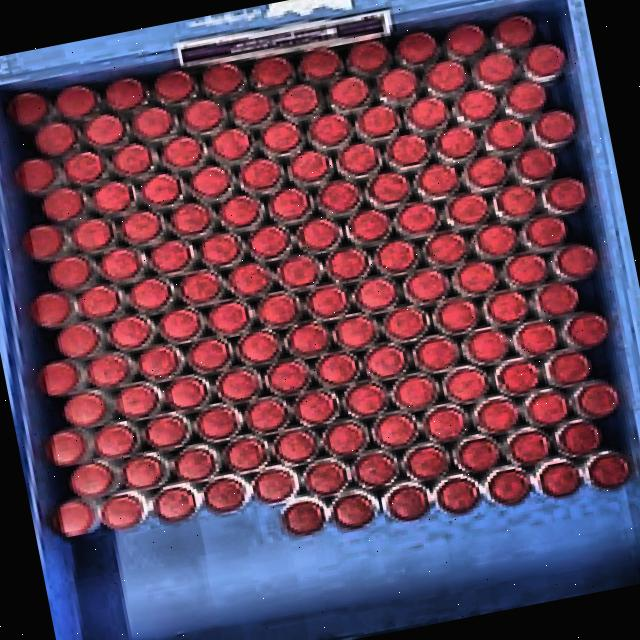vial: (541, 349, 592, 388), (169, 202, 218, 242), (52, 498, 101, 538), (503, 427, 552, 467), (553, 418, 602, 458), (57, 321, 108, 359), (522, 388, 570, 428), (303, 457, 351, 497), (453, 434, 501, 474), (559, 311, 609, 349), (442, 365, 489, 405), (472, 395, 519, 435), (352, 449, 399, 489), (244, 396, 292, 435), (530, 281, 579, 319), (195, 404, 242, 443), (550, 243, 598, 281), (571, 381, 619, 419), (108, 314, 157, 351), (413, 335, 460, 373), (292, 389, 339, 427), (371, 411, 418, 449), (423, 230, 469, 268), (512, 320, 558, 358), (343, 381, 389, 419), (224, 435, 270, 473), (273, 427, 319, 465), (383, 306, 430, 343), (482, 290, 529, 327), (532, 110, 577, 148), (374, 239, 419, 277), (298, 48, 344, 85), (325, 247, 371, 284), (353, 276, 399, 313), (394, 31, 438, 69), (444, 23, 488, 61), (586, 451, 630, 489), (492, 14, 537, 51), (228, 262, 273, 299), (277, 254, 322, 291), (41, 187, 87, 223), (208, 300, 254, 336), (404, 268, 450, 304), (188, 337, 232, 374), (286, 321, 330, 358), (454, 260, 499, 296), (237, 329, 282, 365), (266, 359, 311, 395), (364, 344, 409, 380), (216, 368, 262, 403), (392, 375, 438, 410), (15, 158, 57, 196), (48, 429, 90, 467), (154, 70, 197, 107), (251, 56, 294, 93), (230, 91, 274, 127), (94, 422, 138, 458), (424, 406, 468, 442), (103, 77, 148, 112), (189, 165, 234, 200), (120, 210, 165, 245), (464, 328, 509, 363), (378, 67, 419, 105), (31, 292, 73, 329), (498, 360, 541, 396), (34, 122, 78, 157), (131, 106, 175, 141), (333, 315, 377, 350), (324, 421, 368, 456), (70, 462, 115, 496), (261, 120, 303, 156), (406, 96, 448, 132), (116, 383, 158, 419), (166, 375, 208, 411), (204, 477, 246, 513), (487, 468, 529, 504), (49, 255, 92, 290), (544, 177, 587, 212), (474, 223, 517, 258), (306, 285, 349, 320), (436, 298, 479, 333), (64, 392, 107, 427), (316, 352, 359, 387), (436, 478, 479, 513), (346, 41, 391, 74), (23, 224, 64, 260), (200, 232, 241, 268), (8, 92, 50, 127), (202, 63, 244, 98), (475, 52, 517, 87), (88, 353, 130, 388), (283, 500, 325, 535), (92, 181, 135, 215), (465, 155, 508, 189), (100, 248, 143, 282), (149, 240, 192, 274), (298, 218, 341, 252), (494, 185, 537, 219), (159, 308, 202, 342), (145, 415, 188, 449), (55, 86, 99, 119), (39, 360, 79, 396), (540, 461, 580, 497), (80, 285, 121, 320), (387, 486, 428, 521), (64, 151, 106, 185), (183, 99, 225, 133), (210, 128, 252, 162), (309, 113, 351, 147), (72, 218, 114, 252), (248, 225, 290, 259), (447, 193, 489, 227), (523, 44, 565, 78), (257, 293, 299, 327), (124, 454, 164, 489), (436, 125, 477, 159), (180, 270, 221, 304), (154, 487, 195, 521), (84, 114, 126, 147), (161, 136, 203, 169), (397, 202, 439, 235), (505, 253, 547, 286), (103, 495, 142, 530), (220, 195, 260, 229), (112, 143, 153, 176), (141, 173, 182, 206), (338, 143, 379, 176), (368, 172, 409, 205), (417, 163, 458, 196), (505, 81, 546, 114), (485, 118, 526, 151), (525, 215, 566, 248), (406, 446, 447, 479), (328, 77, 370, 109), (426, 61, 468, 93), (255, 469, 294, 503), (280, 84, 320, 117), (359, 105, 399, 138), (289, 150, 329, 183), (270, 187, 310, 220), (319, 180, 359, 213), (240, 159, 281, 191), (387, 134, 428, 166), (131, 278, 172, 310), (139, 346, 180, 378), (456, 90, 498, 121), (335, 494, 373, 528), (350, 209, 389, 242), (517, 148, 557, 180), (176, 449, 216, 480)
